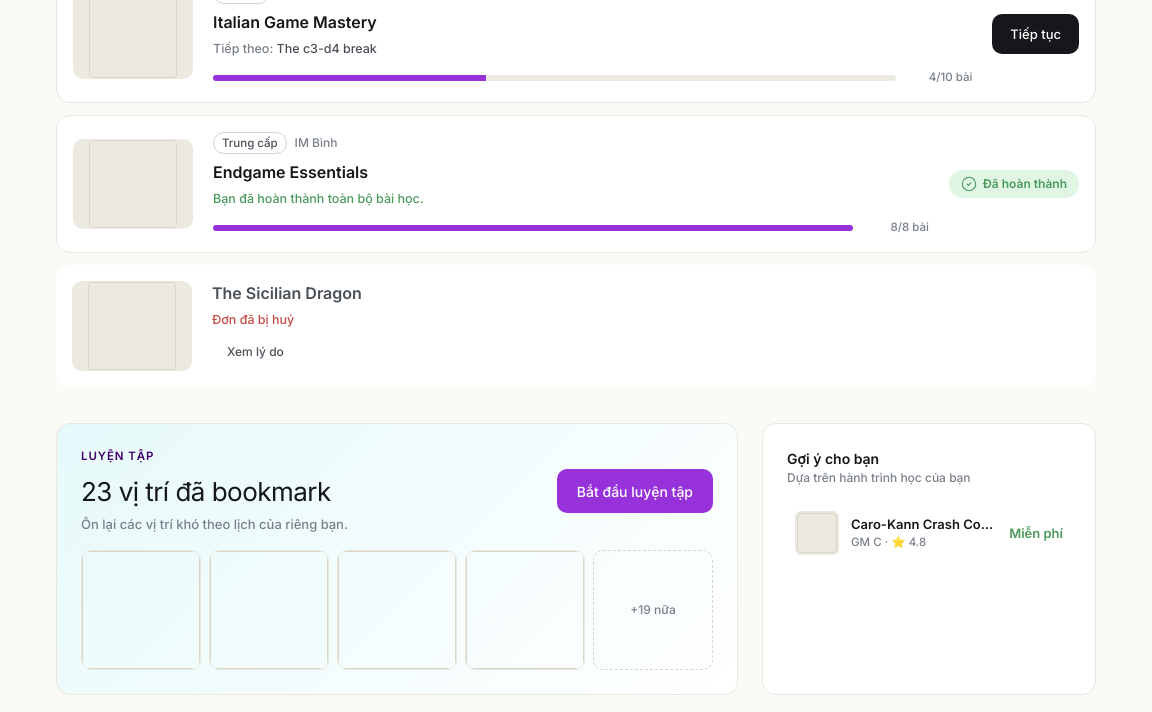
Test: LearnerDashboardPage › cancelled order row › renders a reason-reveal button that toggles the cancellation reason
(page scrolled)
Click the button with test id "cancelled-reveal-btn-ord-c1" at (255, 352), box [212,336,299,368]
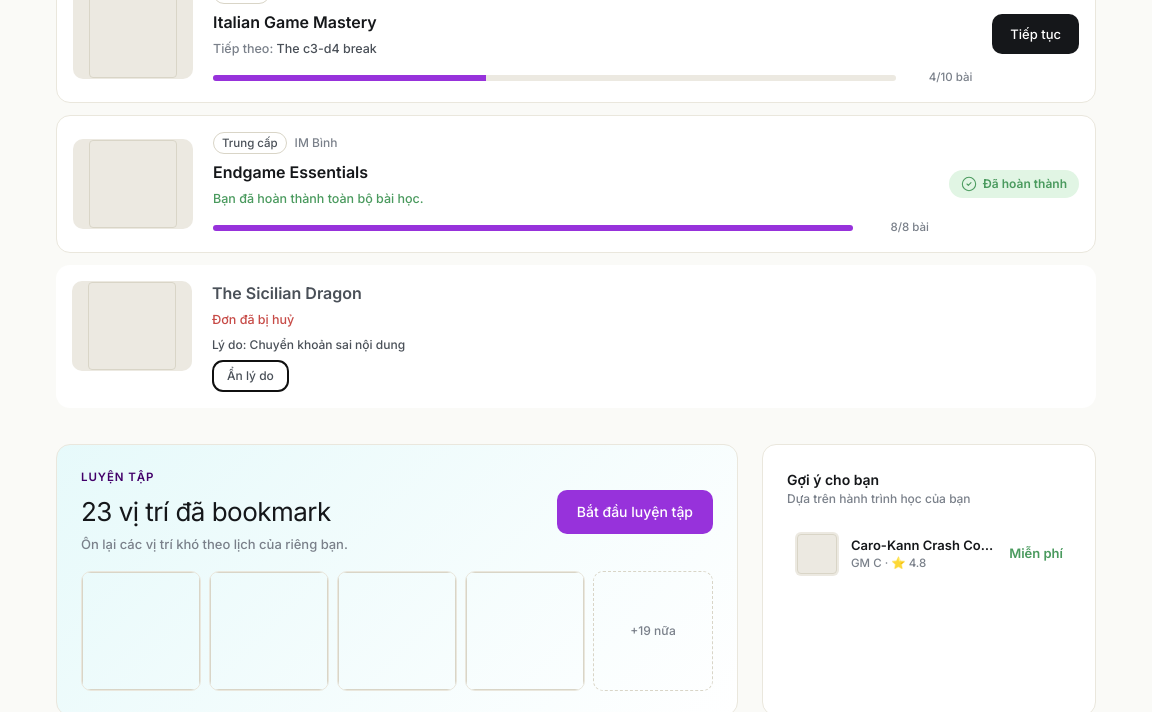
Now the text "Lý do: Chuyển khoản sai nội dung" is shown, box [212,337,405,352]
Now the text with test id "cancelled-reason-ord-c1" shows "Chuyển khoản sai nội dung", box [250,337,405,352]
